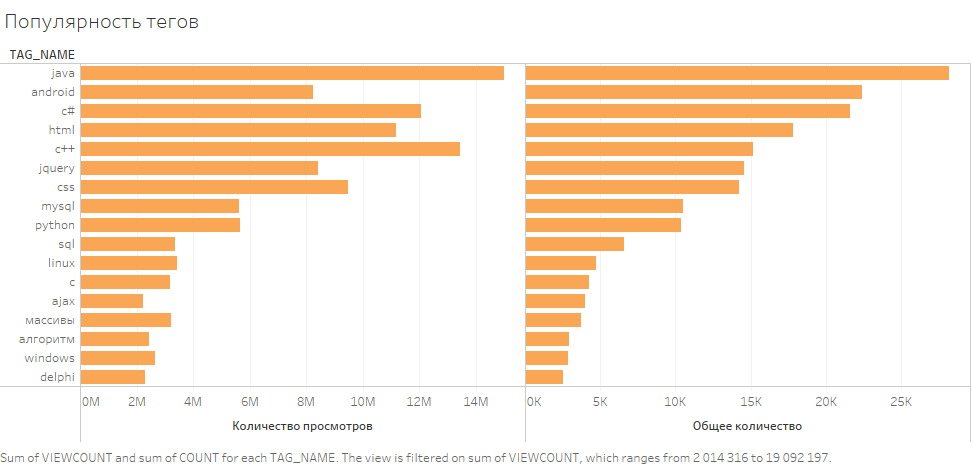

Layout of this report page (visuals, bound fields, positions):
{"tool":"tableau","page":{"name":"Dashboard 1","canvas":[900,800],"ordinal":0},"visuals":[{"type":"worksheet","title":"Sheet 1","mark":"Automatic","rows":["TAG_NAME"],"cols":["VIEWCOUNT","COUNT"],"box":[8,8,884,392]},{"type":"worksheet","title":"Sheet 4","mark":"Bar","rows":["VIEWCOUNT"],"cols":["DATE_NAME","TAG_NAME"],"box":[8,400,884,392]}]}

Visuals, with their boxes on the page's 900x800 design canvas (x1, y1, x2, y2). These are canvas units, not pixel positions in the 972x467 screenshot, which may show the page scaled, cropped or inside an application window:
"Sheet 1" worksheet: bbox=(8, 8, 892, 400)
"Sheet 4" worksheet (Bar marks): bbox=(8, 400, 892, 792)
